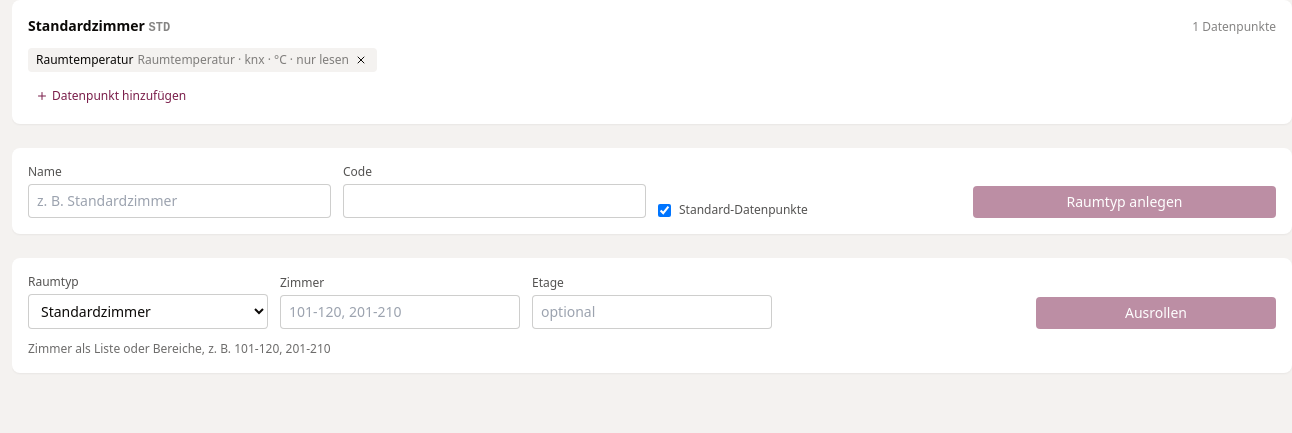
Test case: RoomTypesTab › rolls a room type out to a range of rooms and reports the result
In the field labelled "Zimmer": (400, 312) left=280, top=295, right=520, bottom=329, type "101-103"
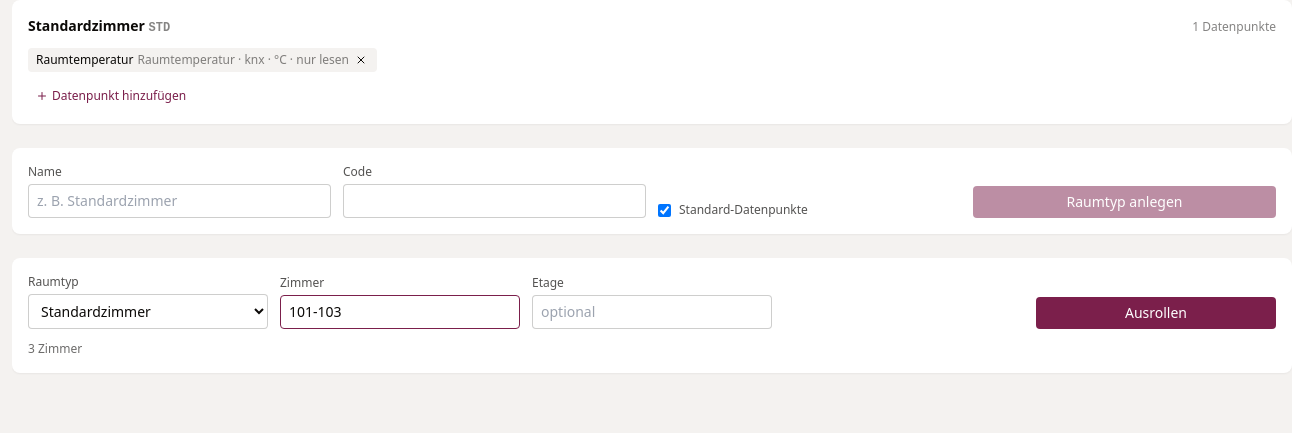
In the field labelled "Etage": (652, 312) left=532, top=295, right=772, bottom=329, type "1"
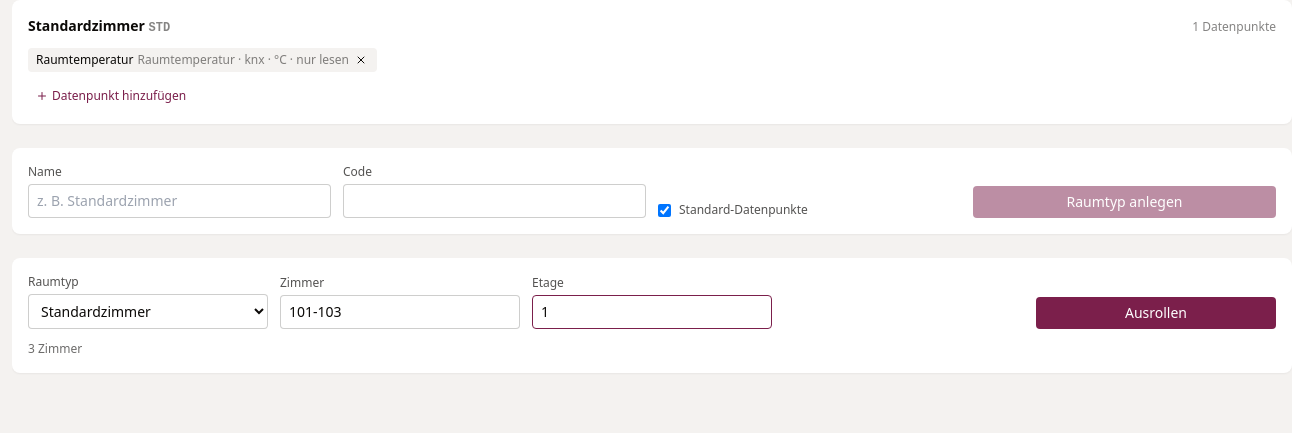
Now the text "3 Zimmer" is shown, box left=28, top=340, right=82, bottom=357
Click the button "Ausrollen": (1156, 313) left=1036, top=297, right=1276, bottom=329
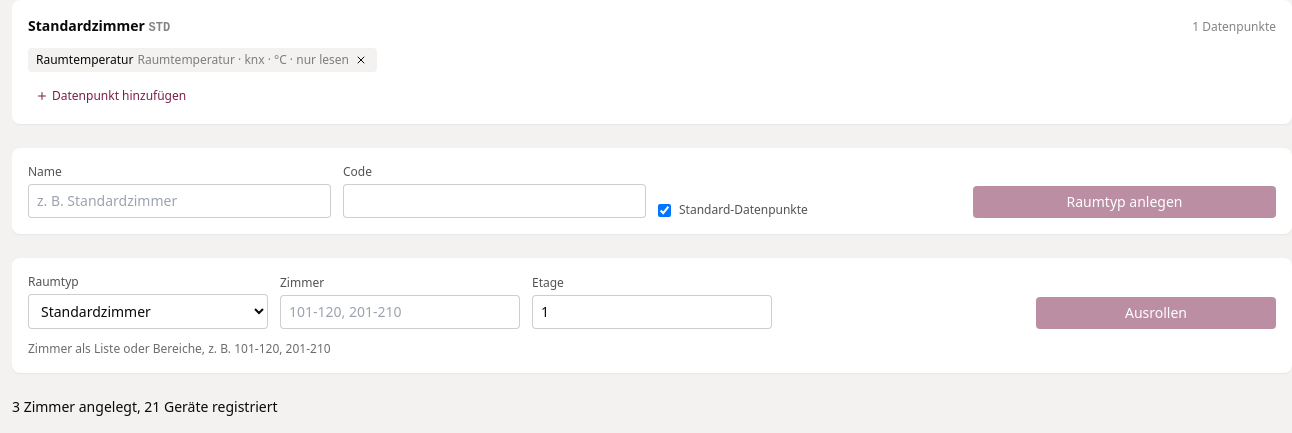
Now the message reads "3 Zimmer angelegt, 21 Geräte registriert", box left=12, top=397, right=278, bottom=416
